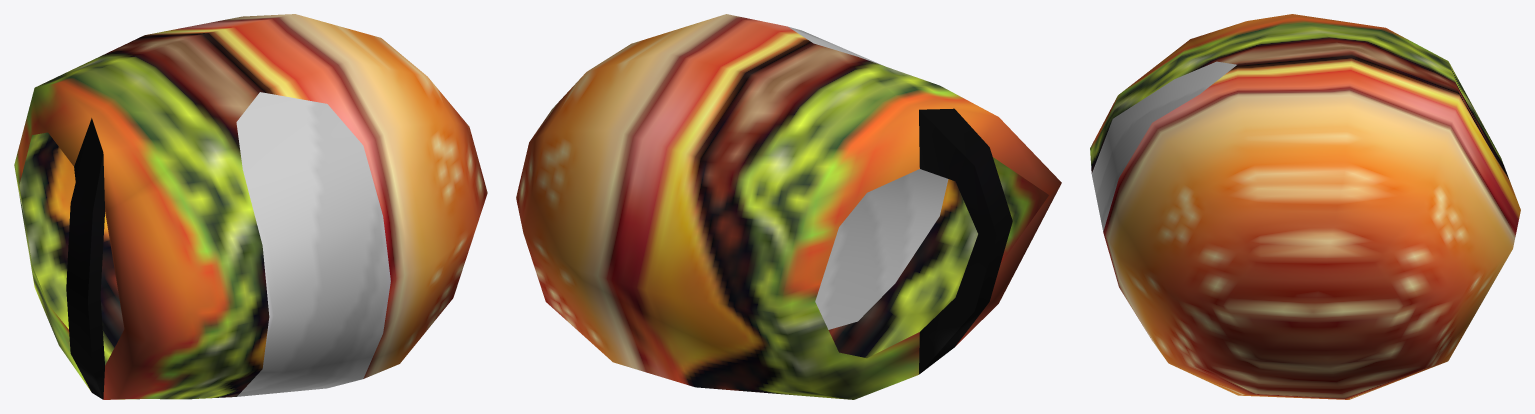
The model's file is CrashHelmetFullBurger.fbx.
The picture shows the model from 3 angles, left to right: view 1: azimuth 30°, elevation 25°; view 2: azimuth 150°, elevation 25°; view 3: azimuth 270°, elevation 25°; orthographic projection. The views are drawn at different scales.
Parts seen in each view (by area): view 1: M_CrashHelmetFULL.017; view 2: M_CrashHelmetFULL.017; view 3: M_CrashHelmetFULL.017.
Boxes of the visible parts, box(x1,y1,x2,y2) form: M_CrashHelmetFULL.017: box(14, 14, 487, 399); M_CrashHelmetFULL.017: box(516, 14, 1061, 399); M_CrashHelmetFULL.017: box(1090, 14, 1520, 399).
Size of the model in its own units: 0.1983 by 0.1448 by 0.1862.
